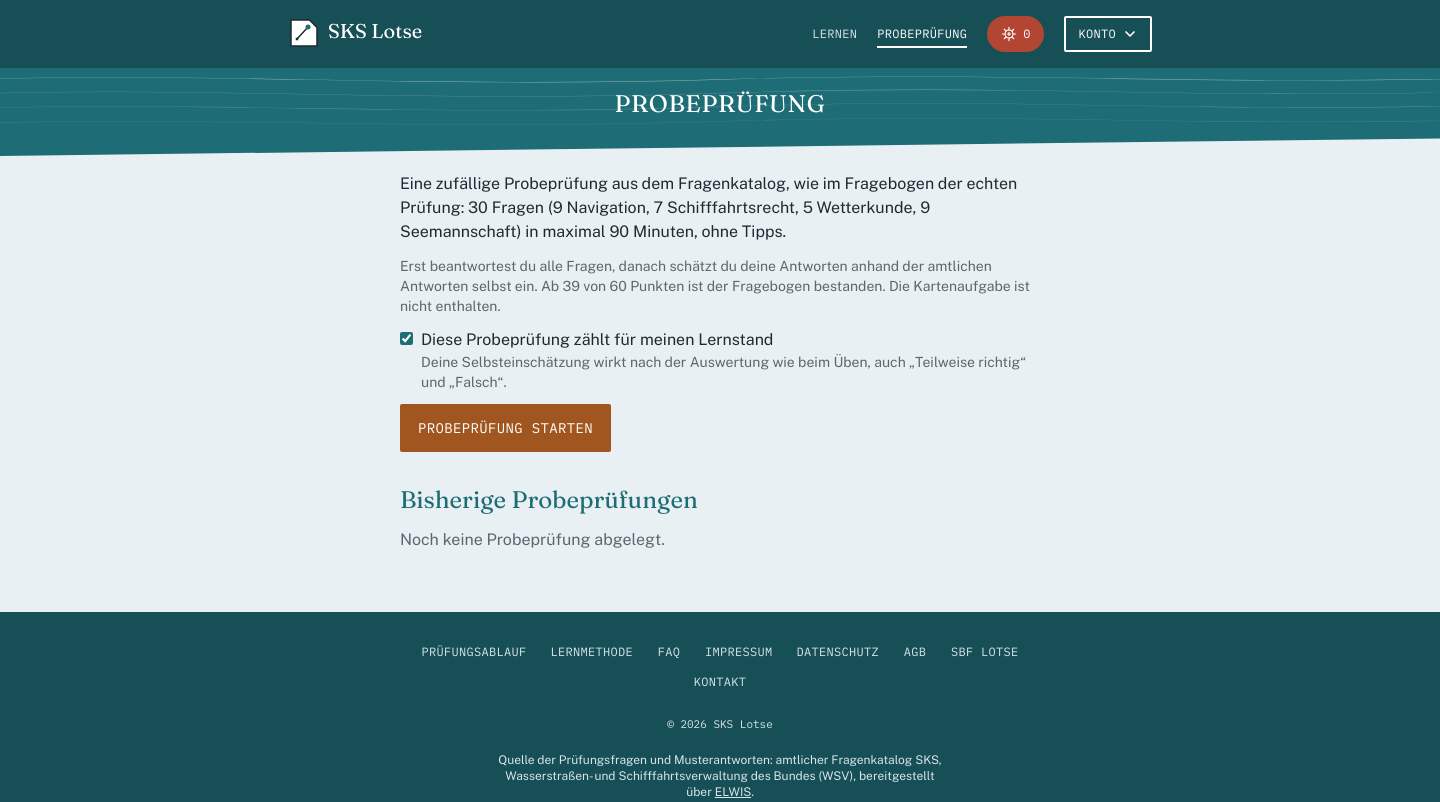
Scenario: ExamPage › keeps the setting and says so when saving it fails
The image size is (1440, 802).
Click the checkbox labelled "zählt für meinen Lernstand": (406, 338) [400,332,413,345]
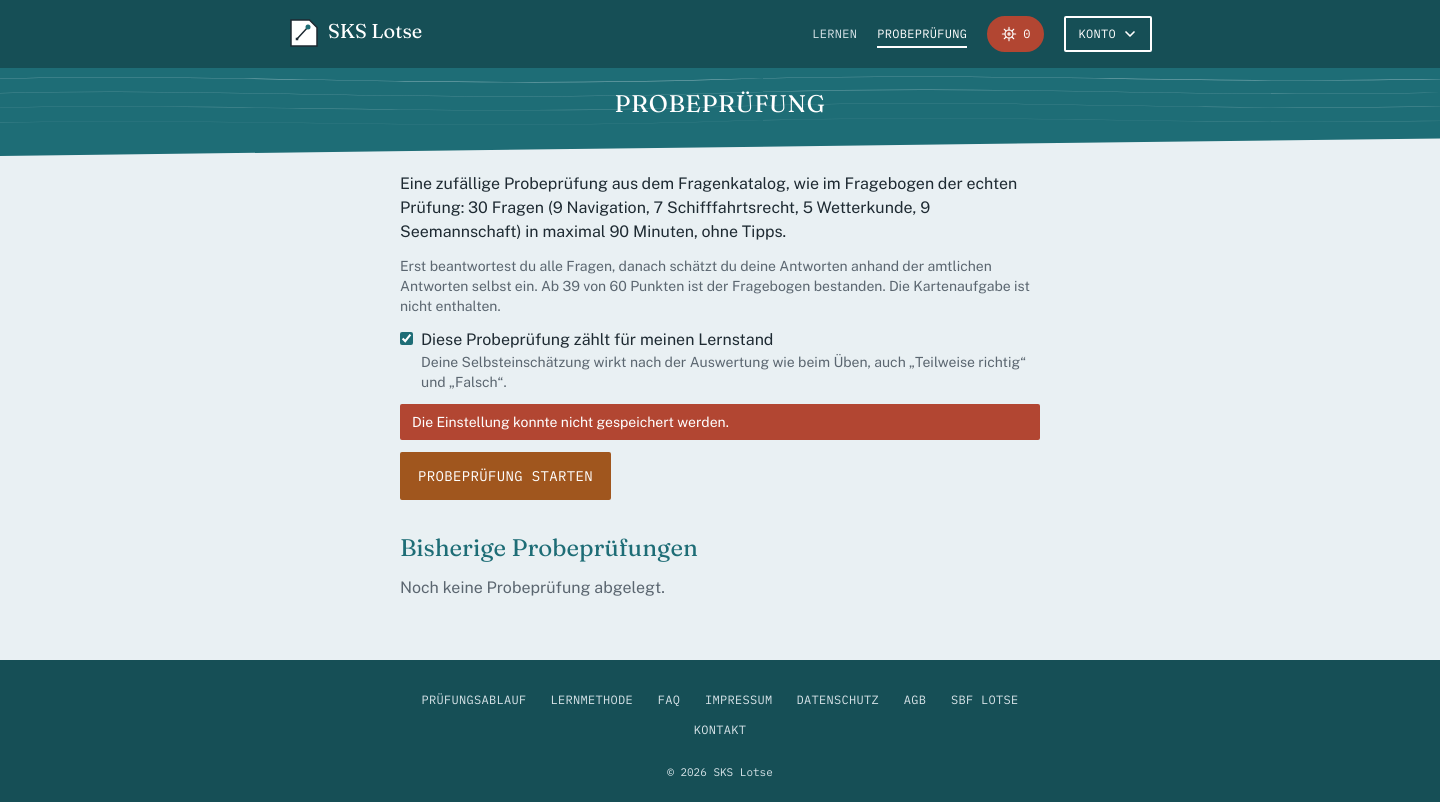
Check: the text "Die Einstellung konnte nicht gespeichert werden." is shown, box [412,412,729,432]
